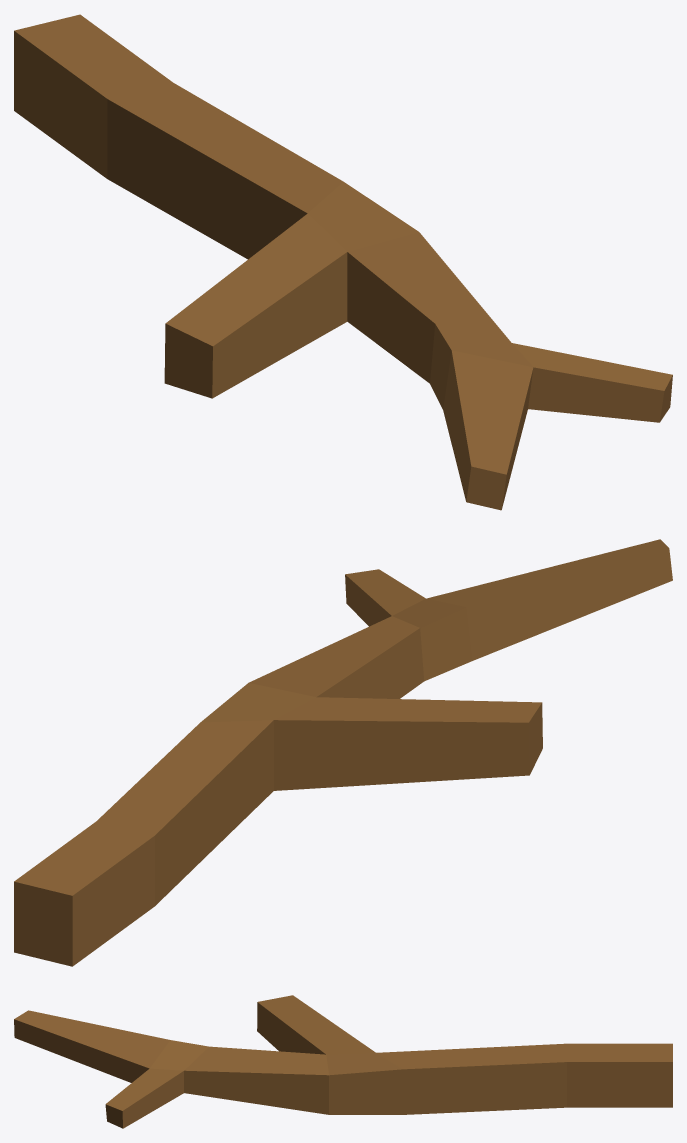
File: Stick 1.fbx
The picture shows the model from 3 angles, top to bottom: view 1: azimuth 30°, elevation 25°; view 2: azimuth 150°, elevation 25°; view 3: azimuth 270°, elevation 25°; orthographic projection. The views are drawn at different scales.
Parts seen in each view (by area): view 1: Cube.001; view 2: Cube.001; view 3: Cube.001.
Boxes of the visible parts, bbox=[...] form: Cube.001: bbox=[14, 14, 672, 510]; Cube.001: bbox=[14, 539, 672, 966]; Cube.001: bbox=[14, 995, 672, 1128].
Size of the model in its own units: 101 by 23.06 by 283.
